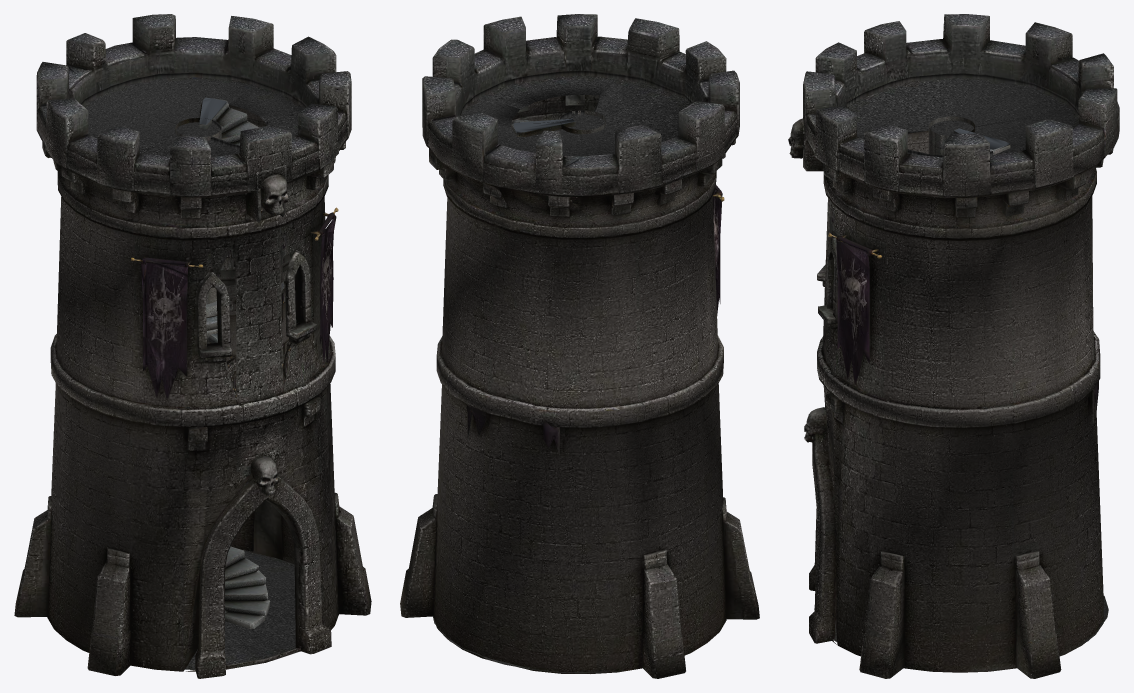
3 views of the same model, side by side, from view 1: azimuth 30°, elevation 25°; view 2: azimuth 150°, elevation 25°; view 3: azimuth 270°, elevation 25° (orthographic).
Parts seen in each view (by area): view 1: Tour, PLafond tour, Escalier bas, Escalier Haut.001; view 2: Tour, PLafond tour, Escalier Haut.001; view 3: Tour, PLafond tour, Escalier Haut.001.
Part boxes in pixels (<box>): Tour: <box>14,14,371,678</box>; PLafond tour: <box>81,72,307,157</box>; Escalier bas: <box>206,301,270,628</box>; Escalier Haut.001: <box>175,97,258,341</box>; Tour: <box>400,14,759,678</box>; PLafond tour: <box>460,70,693,156</box>; Escalier Haut.001: <box>510,110,605,136</box>; Tour: <box>788,14,1119,678</box>; PLafond tour: <box>845,73,1078,157</box>; Escalier Haut.001: <box>928,116,1010,155</box>.
Size of the model in its own units: 17.93 by 32.16 by 18.18.
5 materials, 4 textured.
